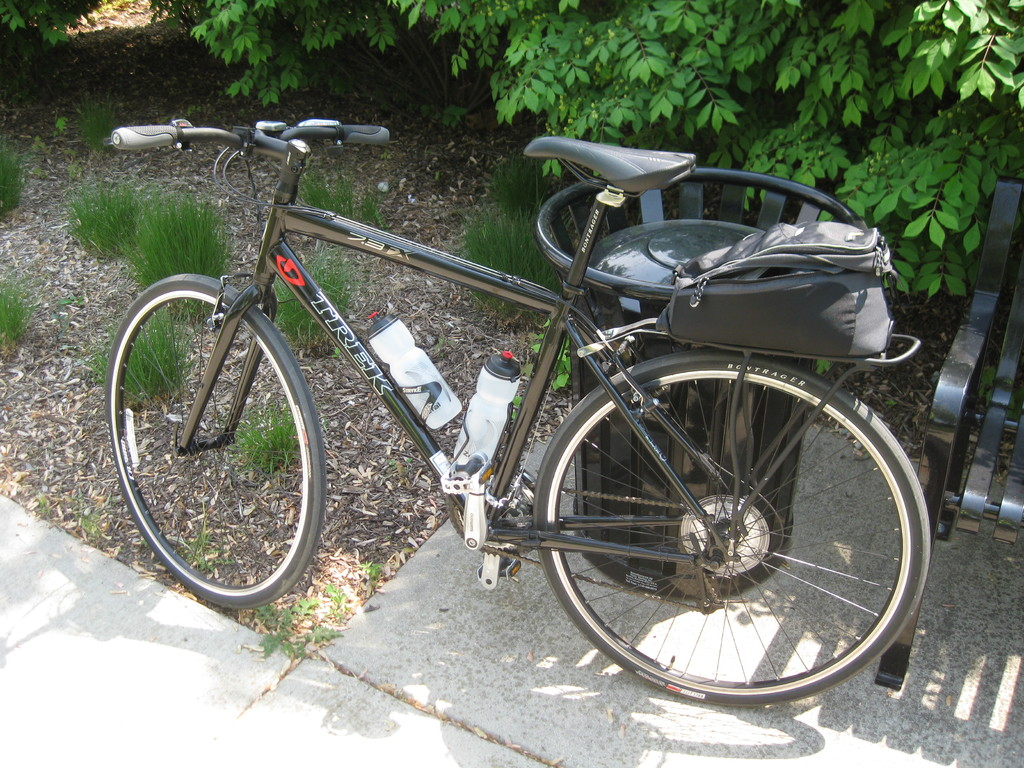Bike_away: (82, 105, 943, 689)
